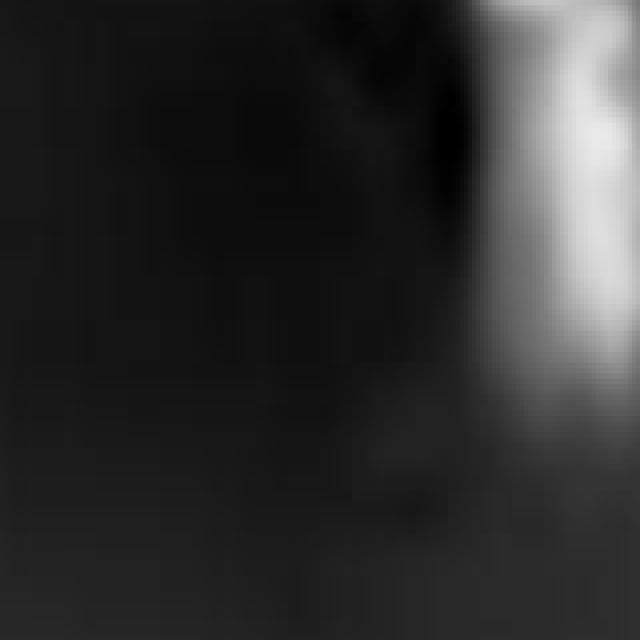person: (441, 1, 640, 508)
